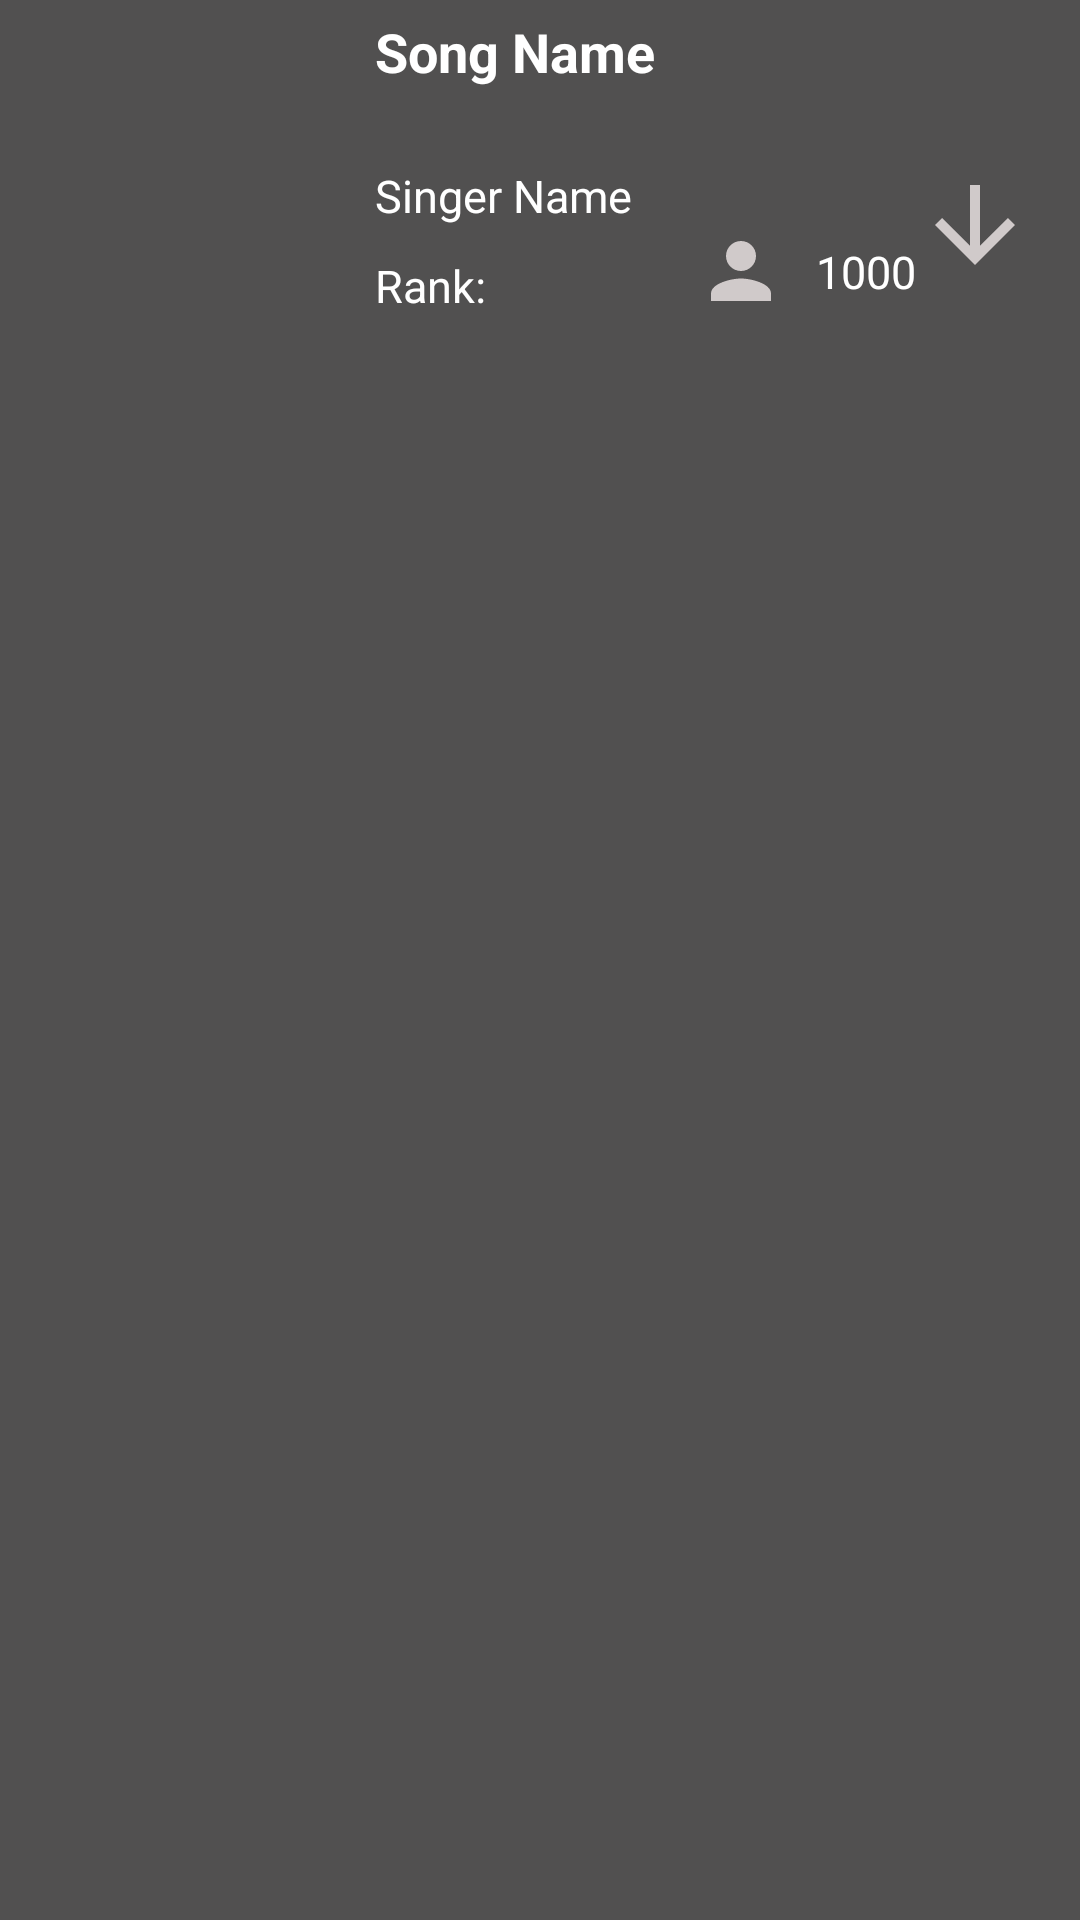

Where icons sit on this 1080px×1920px app screen, as (x1, y1, x2, y2):
arrow downward: (935, 185, 1015, 265)
person: (711, 241, 771, 301)
